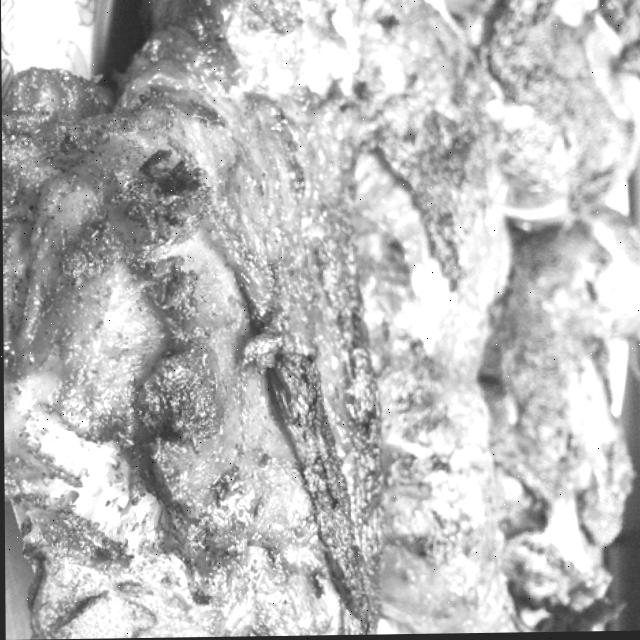鸡肉料理 含炸鸡: (0, 0, 632, 640)
